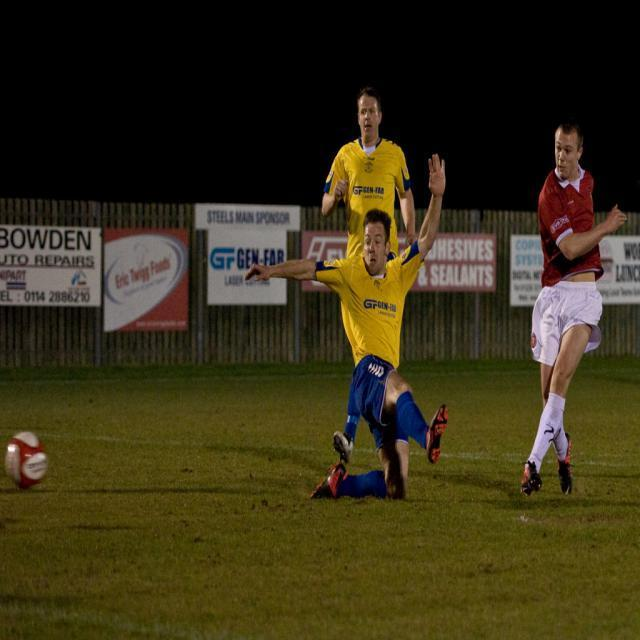football: (7, 429, 61, 487)
